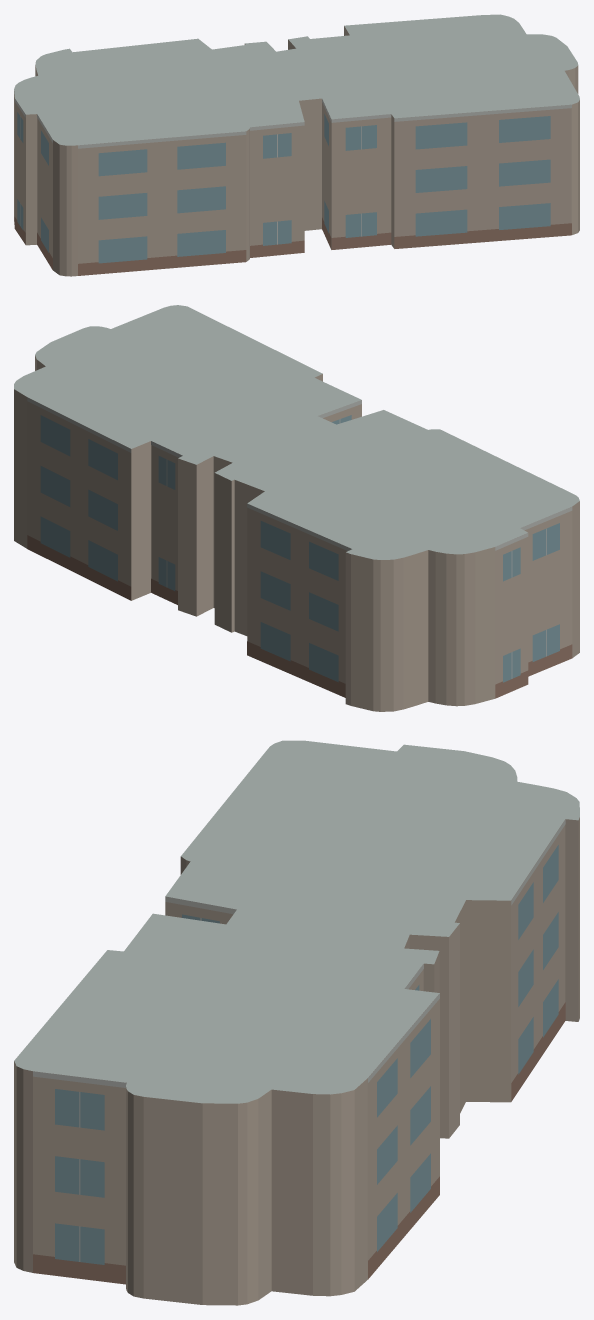
The model's file is survey-upis-32960108.glb.
The picture shows the model from 3 angles, top to bottom: view 1: azimuth 30°, elevation 25°; view 2: azimuth 150°, elevation 25°; view 3: azimuth 270°, elevation 25°; orthographic projection. The views are drawn at different scales.
Visible parts, largest first — view 1: survey-upis-32960108.tmp; view 2: survey-upis-32960108.tmp; view 3: survey-upis-32960108.tmp.
Boxes of the visible parts, x1,y1,x2,y2 form: survey-upis-32960108.tmp: (14,14,579,276); survey-upis-32960108.tmp: (14,305,579,711); survey-upis-32960108.tmp: (14,740,579,1305).
Bounding box in the file's own units: 35.33 × 9.15 × 23.26.
